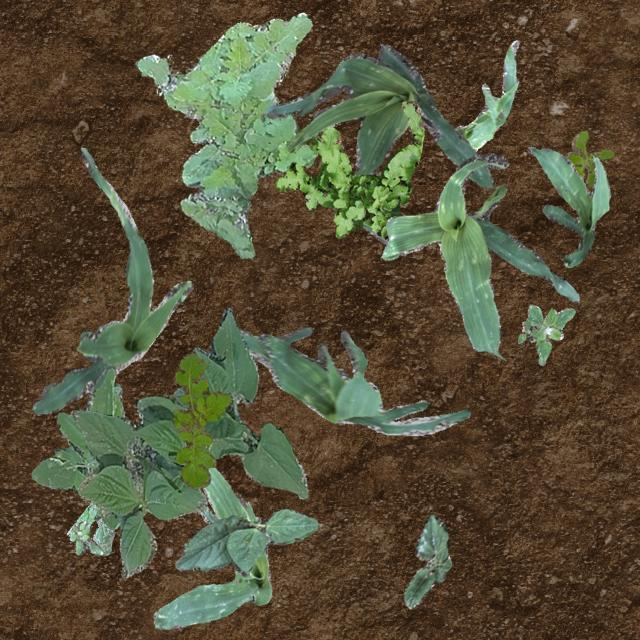crop: (70, 306, 306, 578), (264, 42, 492, 244), (31, 146, 192, 412), (380, 152, 578, 356), (238, 326, 470, 434), (152, 466, 270, 628), (30, 366, 124, 530), (526, 146, 610, 266), (174, 508, 318, 576), (454, 40, 518, 150), (402, 514, 450, 608), (270, 112, 298, 176)
weed: (136, 11, 316, 258), (274, 100, 424, 240), (172, 352, 230, 488), (516, 304, 574, 364), (566, 130, 612, 187), (65, 502, 114, 554), (68, 520, 102, 554)
